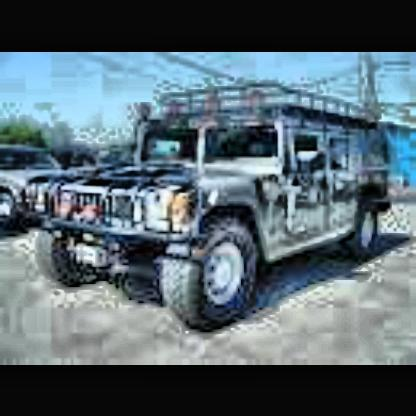AM General Hummer SUV 2000: (21, 80, 398, 336)
